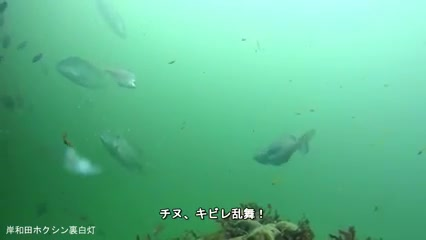smallfish: (102, 62, 140, 91)
